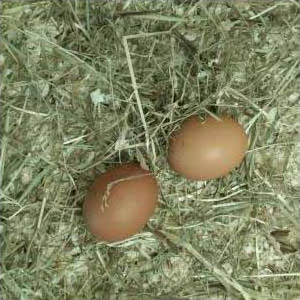egg: (82, 164, 158, 239), (167, 114, 248, 173)
